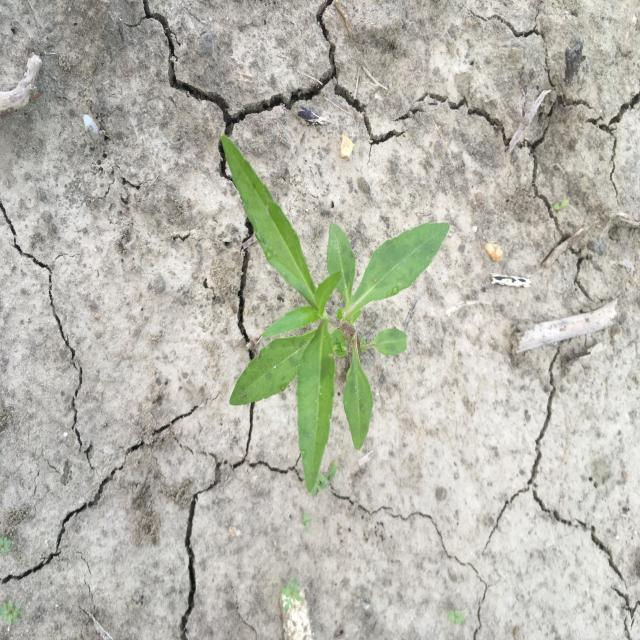Eclipta: (219, 132, 451, 494)
